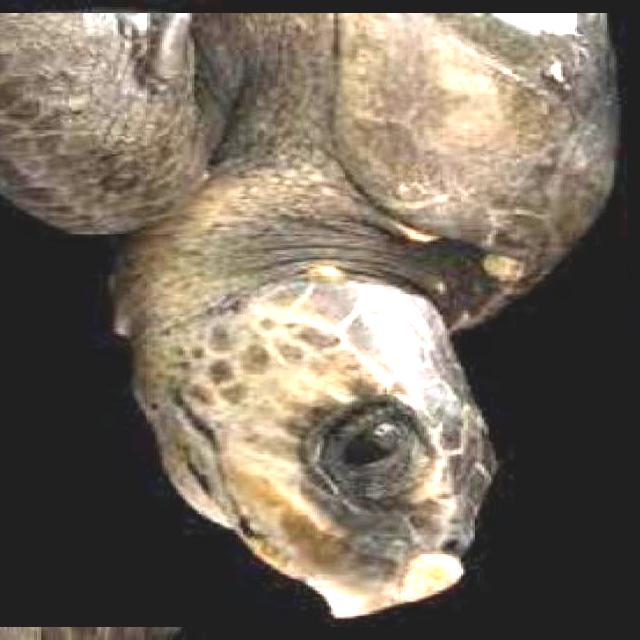Sea turtle: (0, 6, 620, 633)
